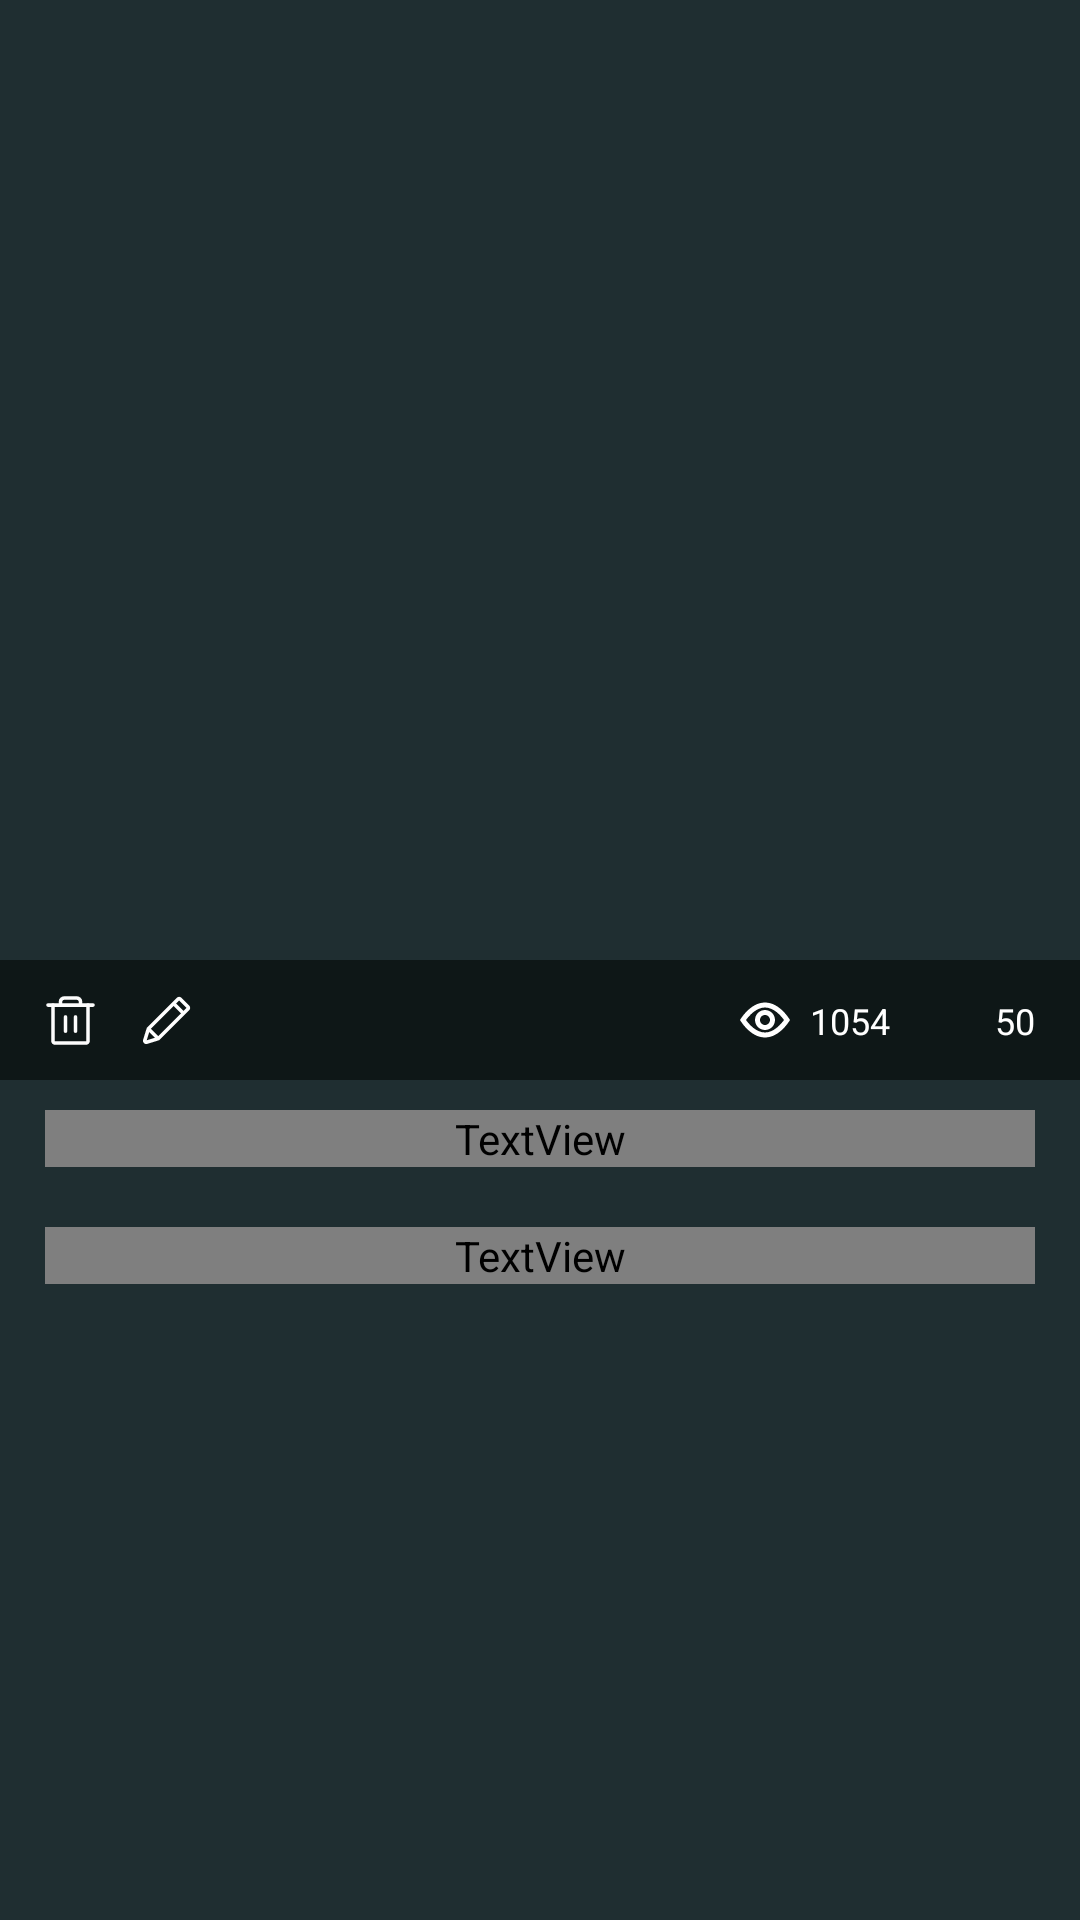

Icons on this 1080w x 1920h Android screen, each with its box as (x1, y1, x2, y2):
delete: (46, 996, 95, 1045)
fix: (143, 996, 190, 1044)
viewer: (740, 1002, 790, 1038)
